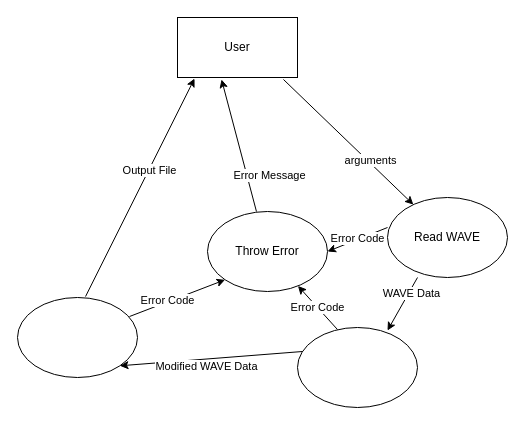
Some shapes in this 525 by 425 pixel diagram are drawn without their labels. Here are the shapes that lost their labels. From the top down, the centre of each, then its label:
the point at 77,337: Export WAVE
the point at 357,367: Process Audio
